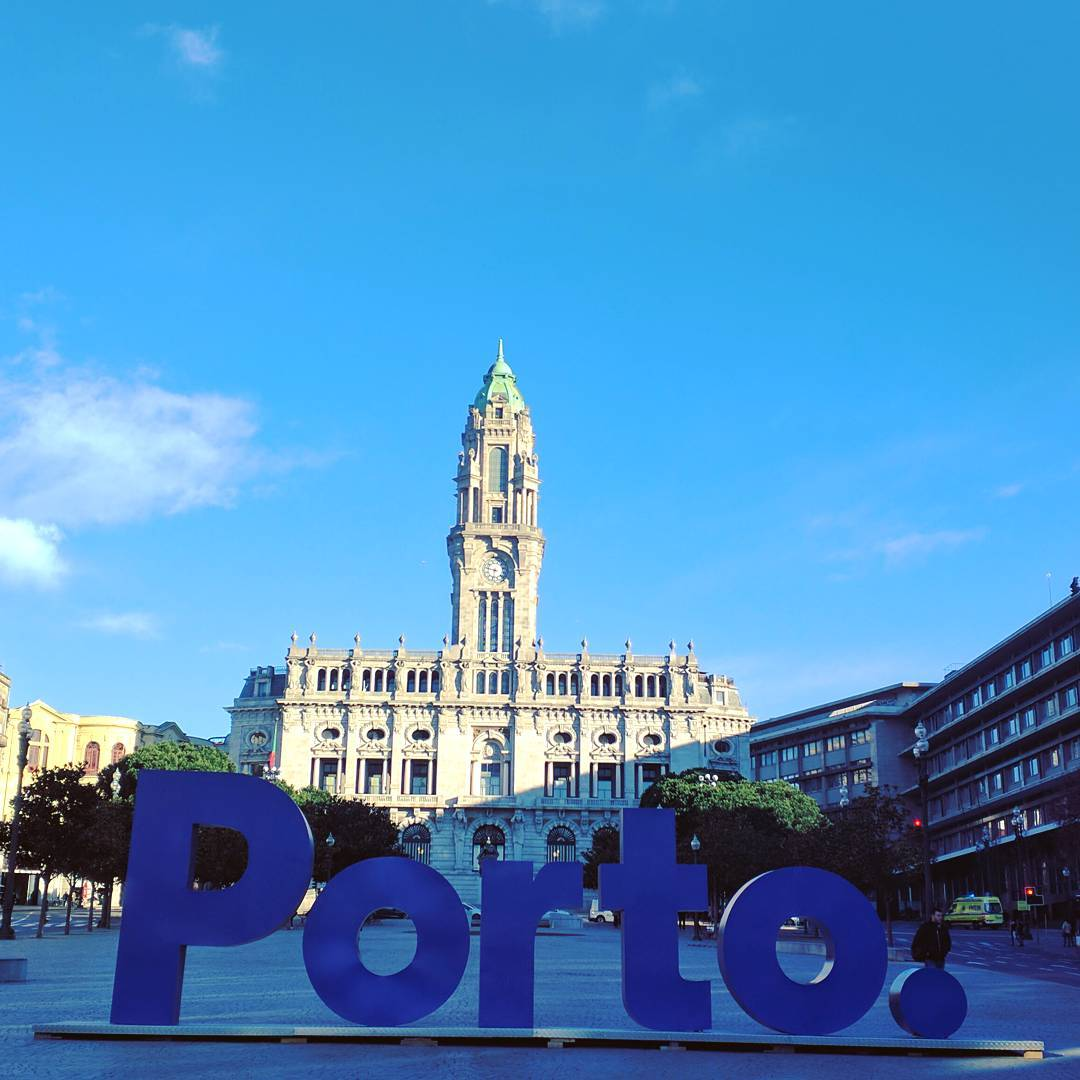camara: (218, 333, 758, 886)
